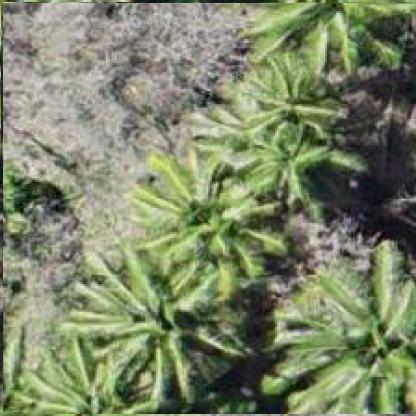coconut tree: (2, 1, 415, 415), (0, 1, 158, 178)
